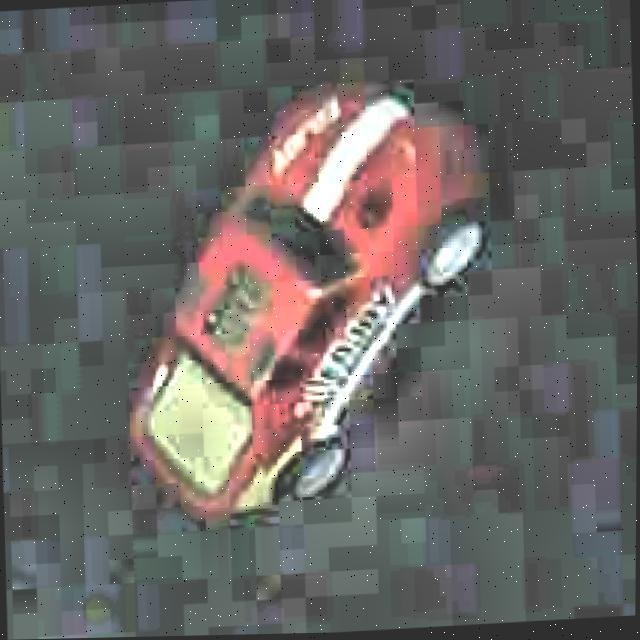car: (110, 69, 518, 529)
